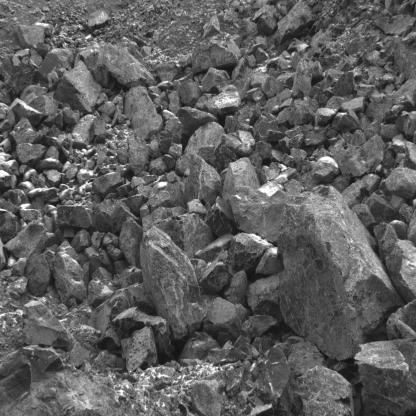stone: (278, 178, 401, 361), (137, 227, 203, 334), (354, 337, 416, 416), (77, 40, 156, 90), (231, 179, 288, 243), (287, 367, 360, 416), (176, 124, 237, 177), (255, 344, 294, 416), (56, 60, 103, 114), (340, 135, 397, 179), (23, 300, 73, 348), (381, 238, 416, 300), (203, 298, 247, 346), (124, 87, 164, 139), (184, 154, 223, 205), (273, 0, 316, 44), (228, 233, 274, 272), (5, 220, 47, 262), (121, 326, 158, 373), (222, 157, 261, 201), (52, 252, 85, 303), (191, 40, 239, 74), (177, 107, 221, 144), (199, 250, 233, 295), (4, 63, 42, 99), (90, 199, 129, 233), (205, 198, 236, 236), (213, 130, 256, 157), (382, 167, 416, 201), (363, 192, 399, 223), (148, 183, 186, 212), (120, 217, 142, 266), (25, 254, 50, 297), (203, 90, 243, 116), (87, 279, 120, 309), (288, 95, 319, 126), (352, 203, 381, 236), (196, 235, 234, 260), (157, 117, 182, 155), (11, 98, 43, 127), (10, 117, 43, 144), (126, 135, 148, 175), (242, 315, 280, 338), (223, 106, 255, 133), (91, 172, 125, 197), (56, 205, 92, 228), (27, 187, 61, 211), (71, 114, 95, 148), (29, 91, 59, 118), (292, 60, 312, 98), (365, 96, 393, 123), (217, 78, 251, 100), (226, 270, 247, 305), (202, 67, 230, 93), (17, 143, 45, 169), (177, 80, 203, 107), (17, 24, 45, 49), (331, 109, 359, 131), (332, 71, 354, 97), (88, 8, 111, 31), (155, 64, 180, 82), (305, 129, 328, 148), (341, 96, 365, 113), (257, 15, 277, 35), (315, 108, 338, 125), (404, 141, 416, 170), (168, 90, 181, 116), (266, 129, 290, 143), (390, 194, 407, 212), (169, 142, 182, 159), (289, 134, 303, 149), (270, 149, 285, 162), (164, 155, 176, 171)
